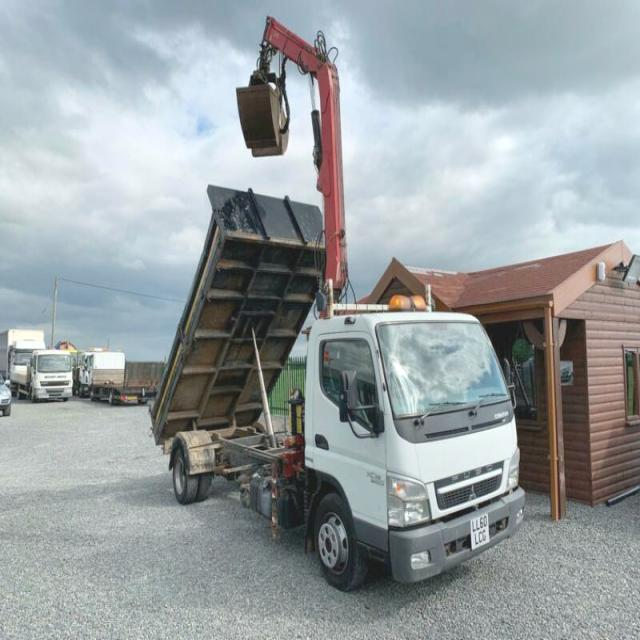truck: (151, 183, 524, 591)
